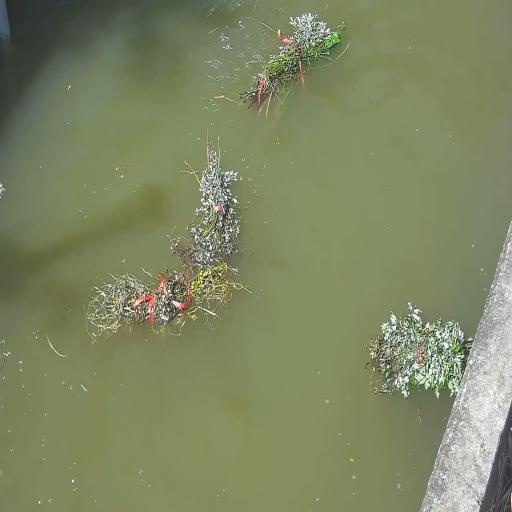twig: (87, 262, 240, 337), (238, 10, 340, 118), (366, 301, 472, 399), (182, 133, 243, 261)
